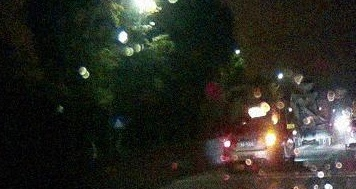L_light: (224, 140, 237, 147)
R_light: (258, 136, 275, 144)
T_light: (250, 123, 260, 127)
night-right: (223, 121, 277, 174)
